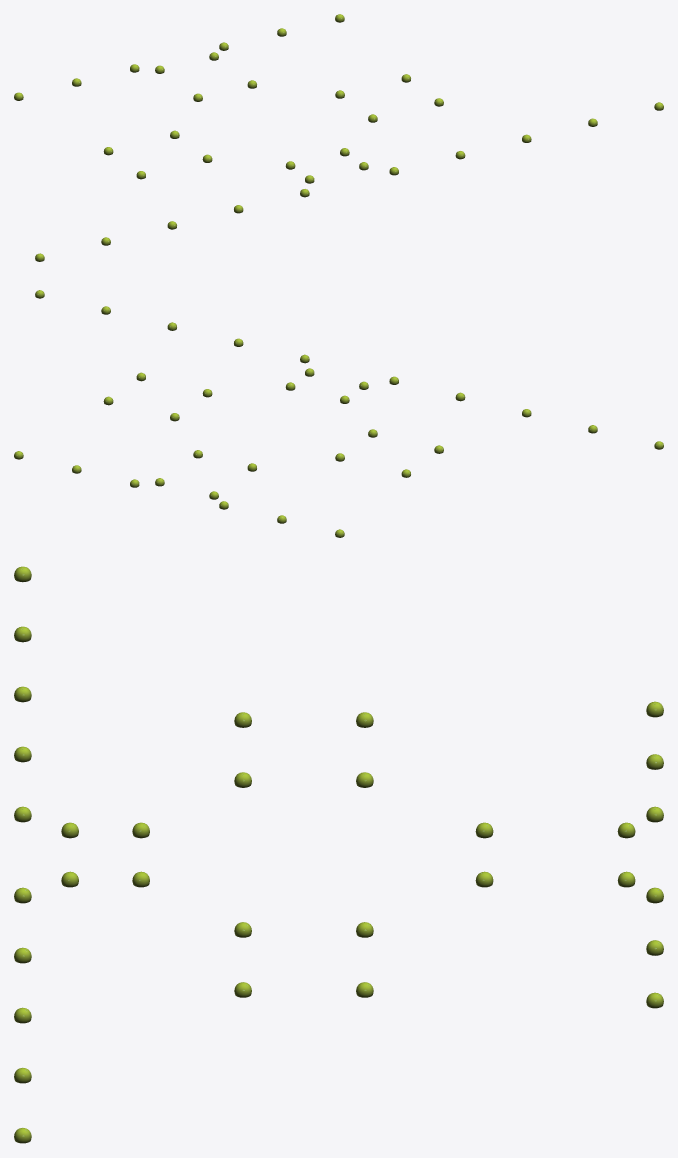
File: BushPlacment.fbx
The picture shows the model from 3 angles, top to bottom: view 1: azimuth 30°, elevation 25°; view 2: azimuth 150°, elevation 25°; view 3: azimuth 270°, elevation 25°; orthographic projection. The views are drawn at different scales.
Visible parts, largest first — view 1: Cube.011, Cube.013; view 2: Cube.011, Cube.013; view 3: Cube.011, Cube.013, Cube.005, Cube.006, Cube.003, Cube.010.
Boxes of the visible parts, bbox=[...] form: Cube.011: bbox=[35, 102, 663, 261]; Cube.013: bbox=[14, 14, 344, 100]; Cube.011: bbox=[35, 290, 663, 449]; Cube.013: bbox=[14, 451, 344, 537]; Cube.011: bbox=[14, 566, 31, 1143]; Cube.013: bbox=[646, 701, 663, 1008]; Cube.005: bbox=[356, 712, 373, 997]; Cube.006: bbox=[234, 712, 251, 997]; Cube.003: bbox=[475, 822, 635, 887]; Cube.010: bbox=[61, 822, 149, 887].
Size of the model in its own units: 17069 by 169 by 8243.
